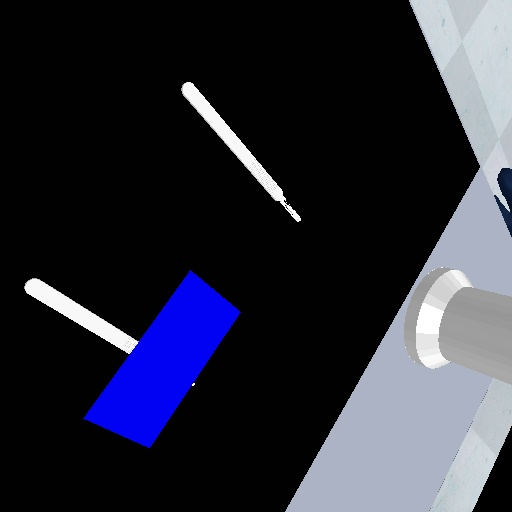bisturi: (179, 77, 305, 223), (21, 275, 141, 357)
